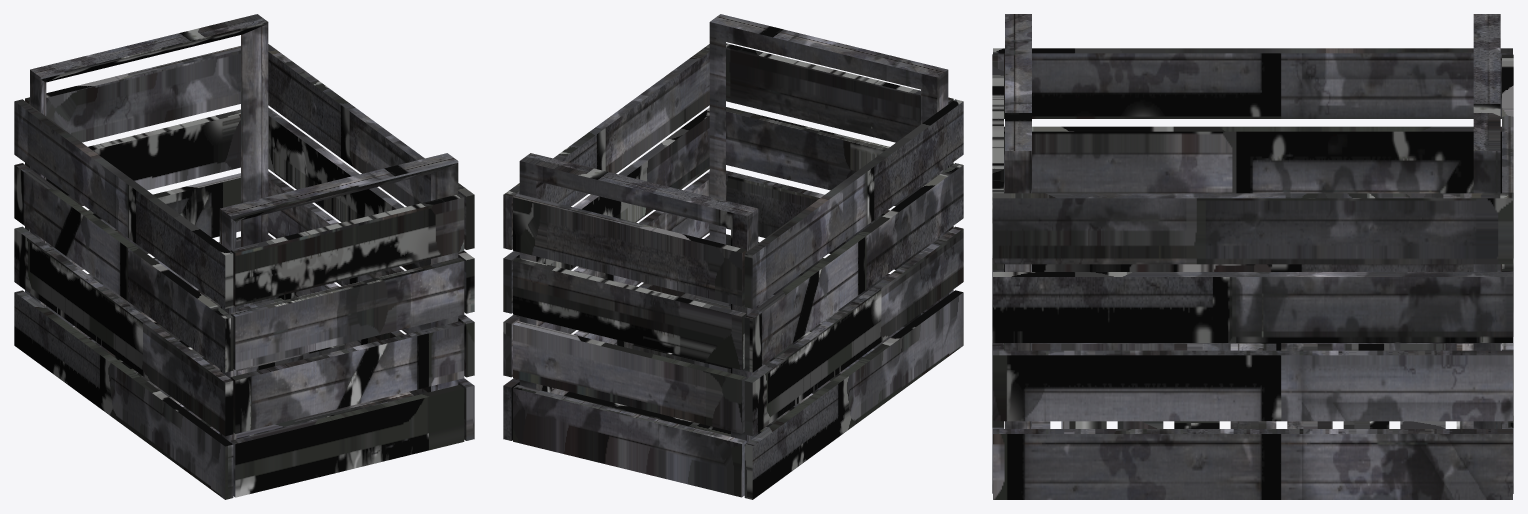
Rendered from box_dirty.FBX.
3 views of the same model, side by side, from view 1: azimuth 30°, elevation 25°; view 2: azimuth 150°, elevation 25°; view 3: azimuth 270°, elevation 25° (orthographic). The views are drawn at different scales.
Parts seen in each view (by area): view 1: Box3; view 2: Box3; view 3: Box3.
Part boxes in pixels (x1=…): Box3: x1=14, y1=14, x2=474, y2=499; Box3: x1=503, y1=14, x2=963, y2=499; Box3: x1=992, y1=14, x2=1513, y2=499.
Bounding box in the file's own units: 31.99 × 34 × 46.93.
